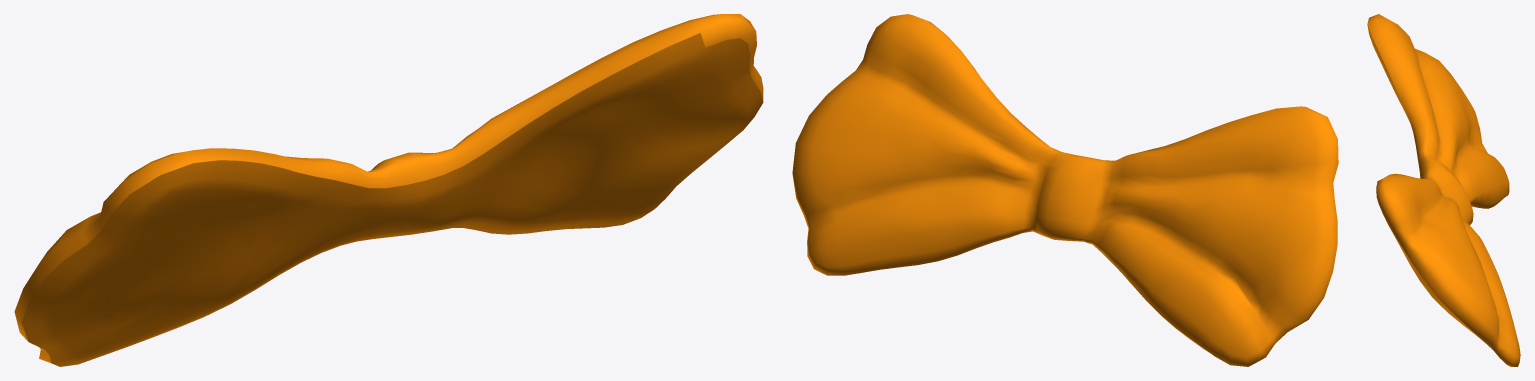
File: tie_AAA.FBX
3 views of the same model, side by side, from view 1: azimuth 30°, elevation 25°; view 2: azimuth 150°, elevation 25°; view 3: azimuth 270°, elevation 25° (orthographic). The views are drawn at different scales.
Visible parts, largest first — view 1: tie; view 2: tie; view 3: tie.
Boxes of the visible parts, x1,y1,x2,y2 form: tie: [14, 14, 763, 366]; tie: [792, 14, 1338, 366]; tie: [1367, 14, 1520, 366].
Size of what is drawn, in the model's own units: 191 by 55.45 by 71.27.
